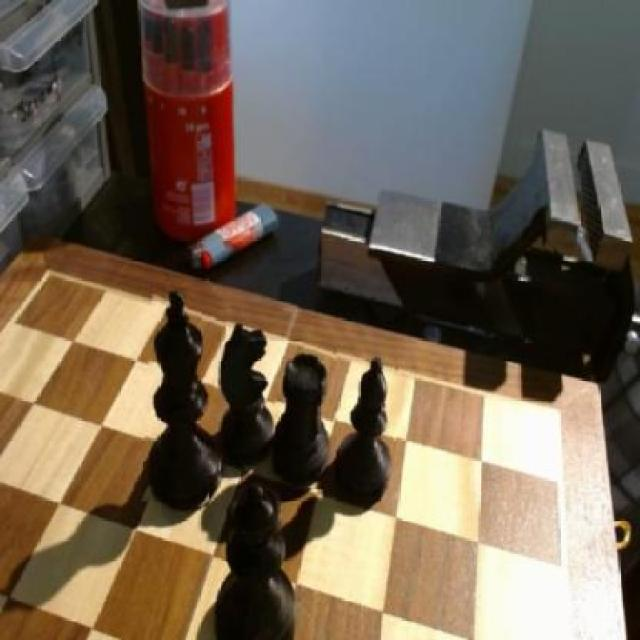bishop: (332, 349, 396, 509)
black-bishop: (145, 288, 226, 508), (208, 474, 302, 640)
black-king: (210, 320, 274, 467)
black-queen: (268, 342, 334, 489)
